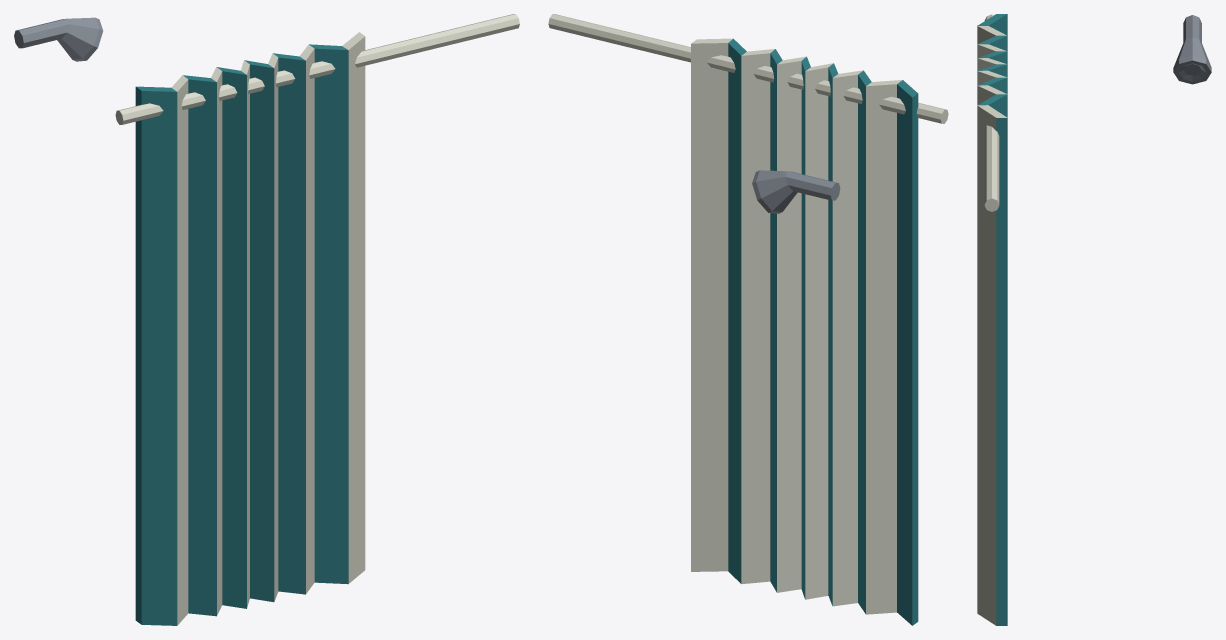
The model's file is MP_Prebuilt_Shower.fbx.
3 views of the same model, side by side, from view 1: azimuth 30°, elevation 25°; view 2: azimuth 150°, elevation 25°; view 3: azimuth 270°, elevation 25° (orthographic). The views are drawn at different scales.
Visible parts, largest first — view 1: Shower_Curtain, Shower_Head; view 2: Shower_Curtain, Shower_Head; view 3: Shower_Curtain, Shower_Head.
Boxes of the visible parts, <box> form: Shower_Curtain: <box>115,14,519,625</box>; Shower_Head: <box>14,17,103,61</box>; Shower_Curtain: <box>548,14,948,625</box>; Shower_Head: <box>752,170,840,213</box>; Shower_Curtain: <box>977,14,1007,625</box>; Shower_Head: <box>1173,15,1211,84</box>.
Bounding box in the file's own units: 128 × 165 × 68.86.
